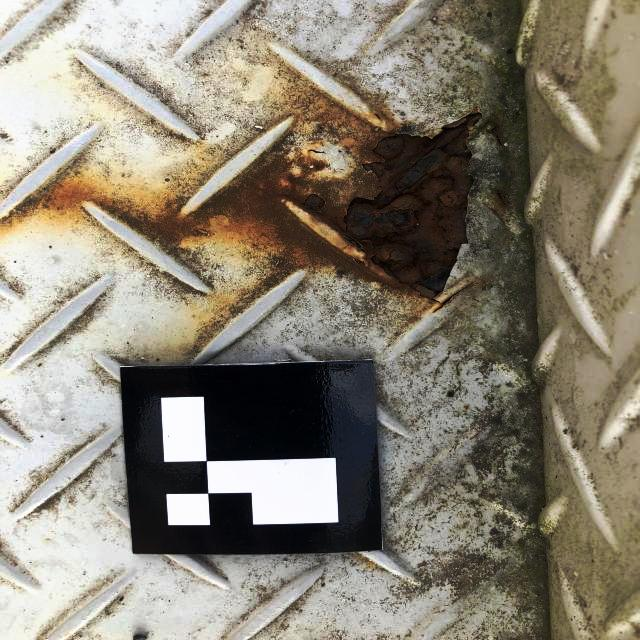Corrosion: (343, 110, 482, 299), (295, 193, 345, 229)
